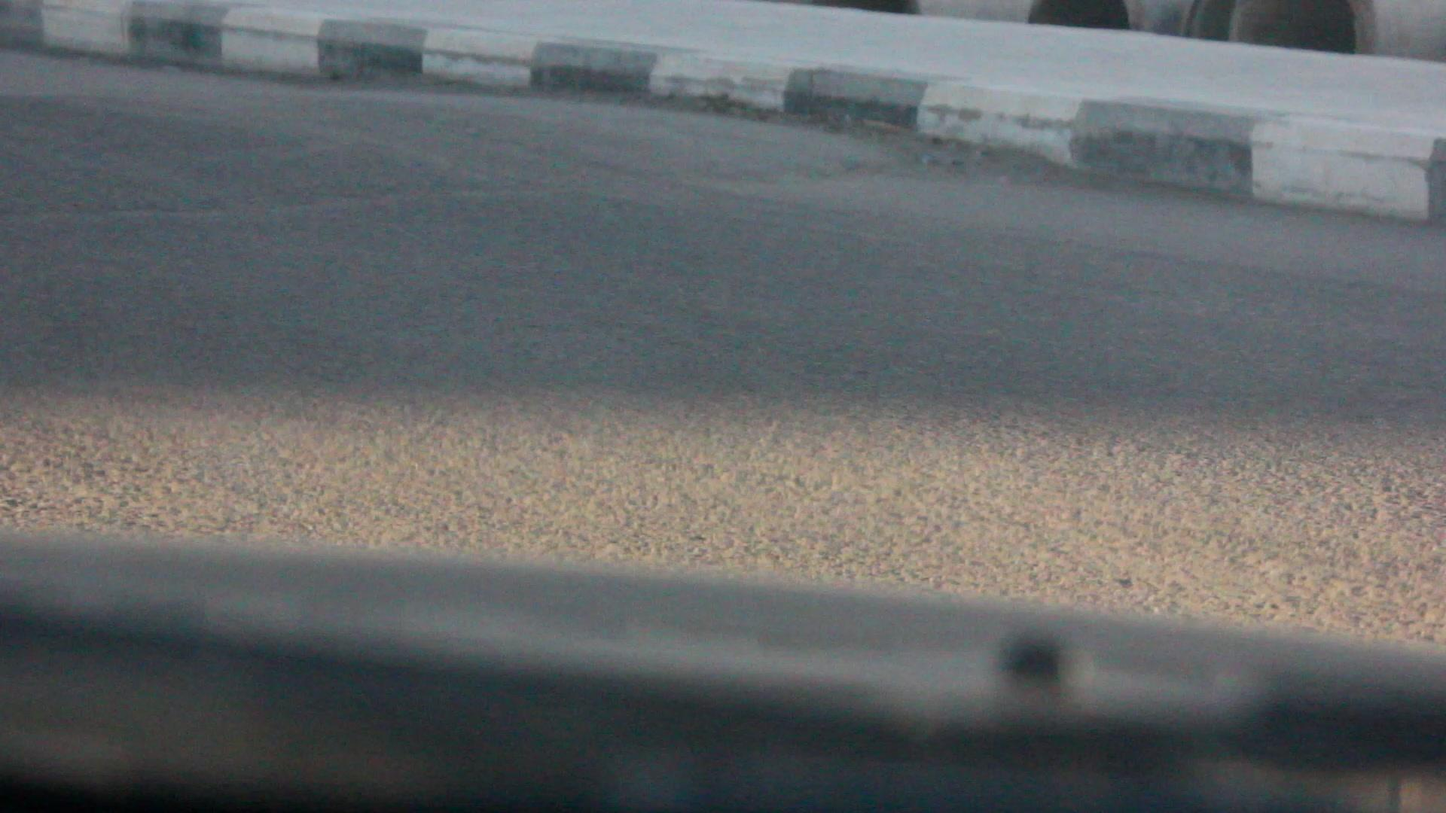Bump: (4, 60, 998, 224)
